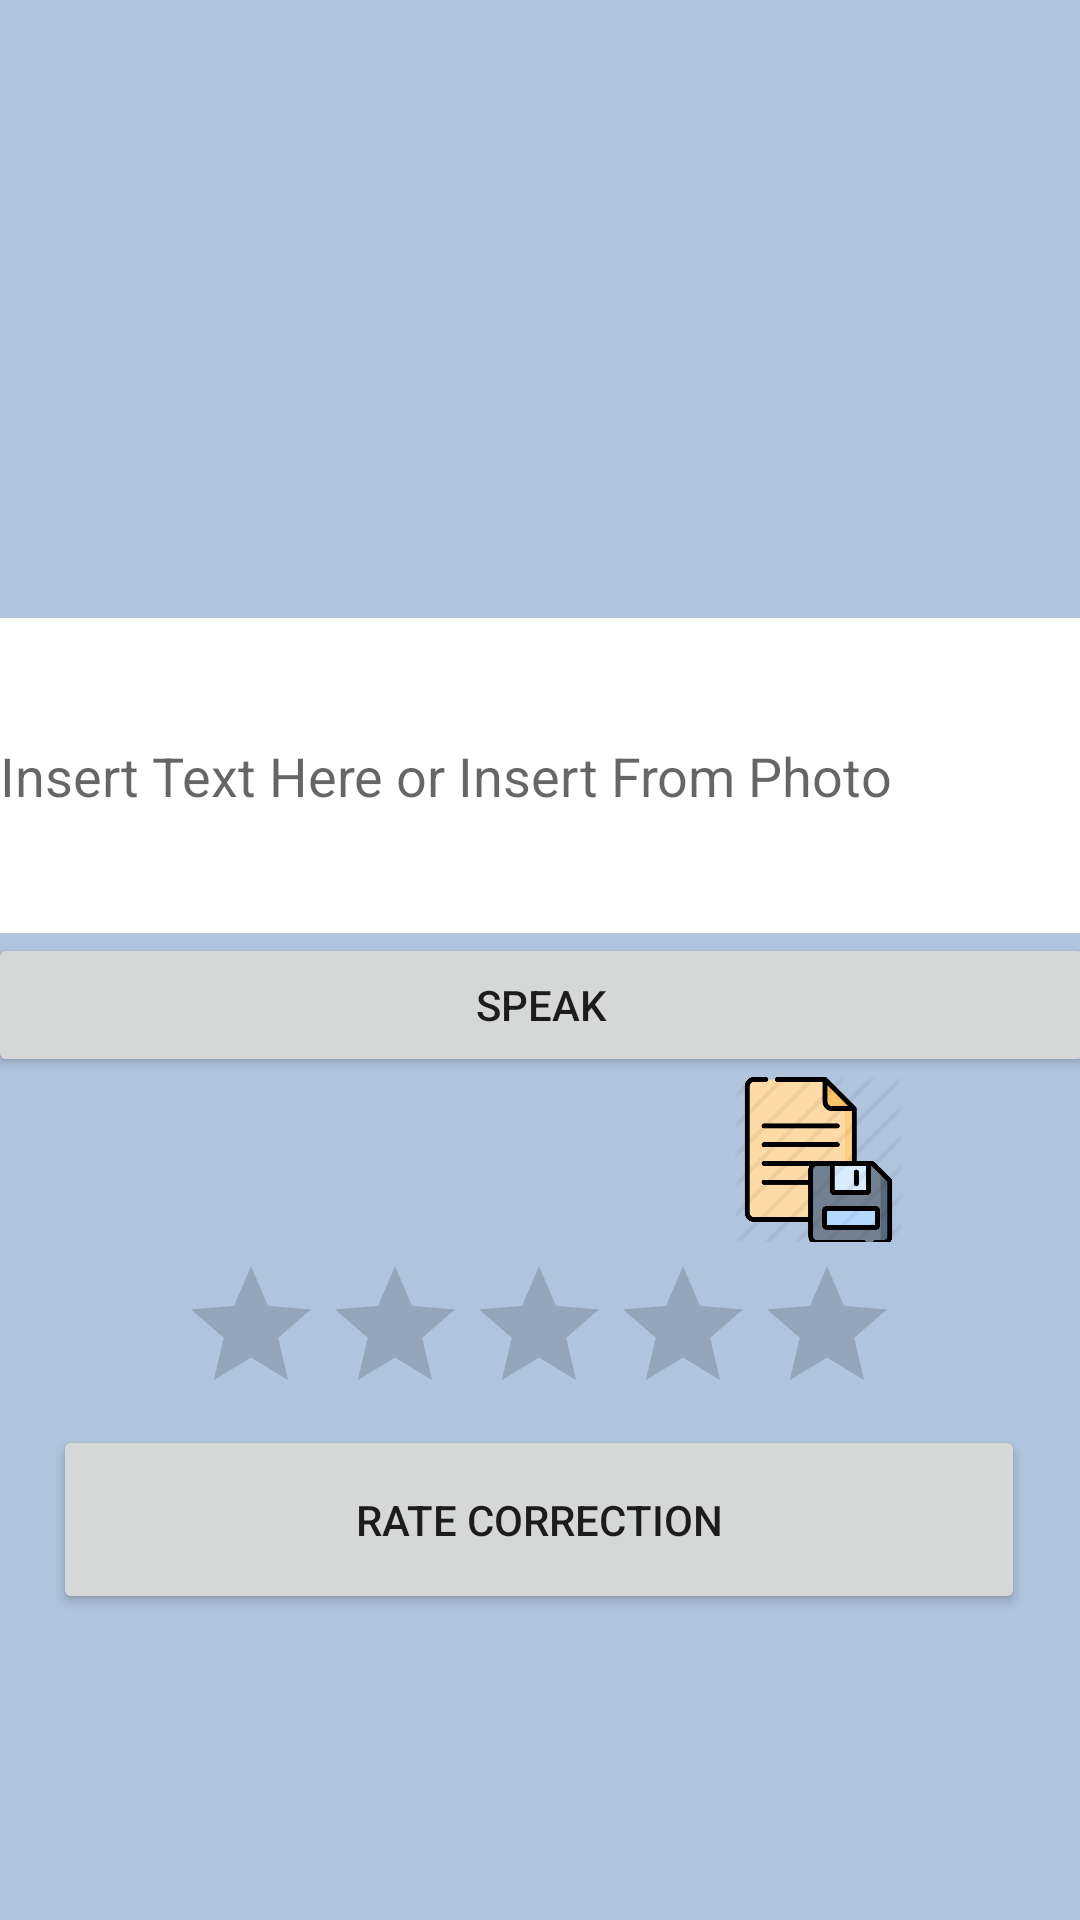

Screen size 1080px×1920px. Icon name, then its center in pixels as (x=x, y=y):
save: (x=818, y=1159)
